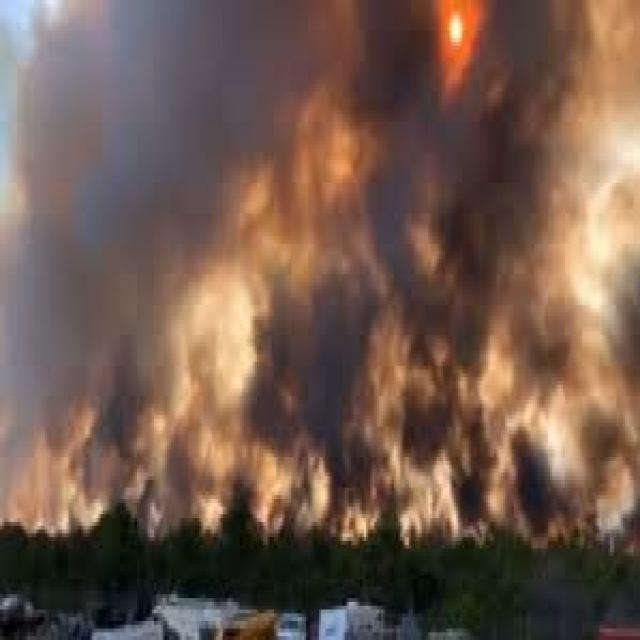Smoke: (16, 4, 618, 458)
